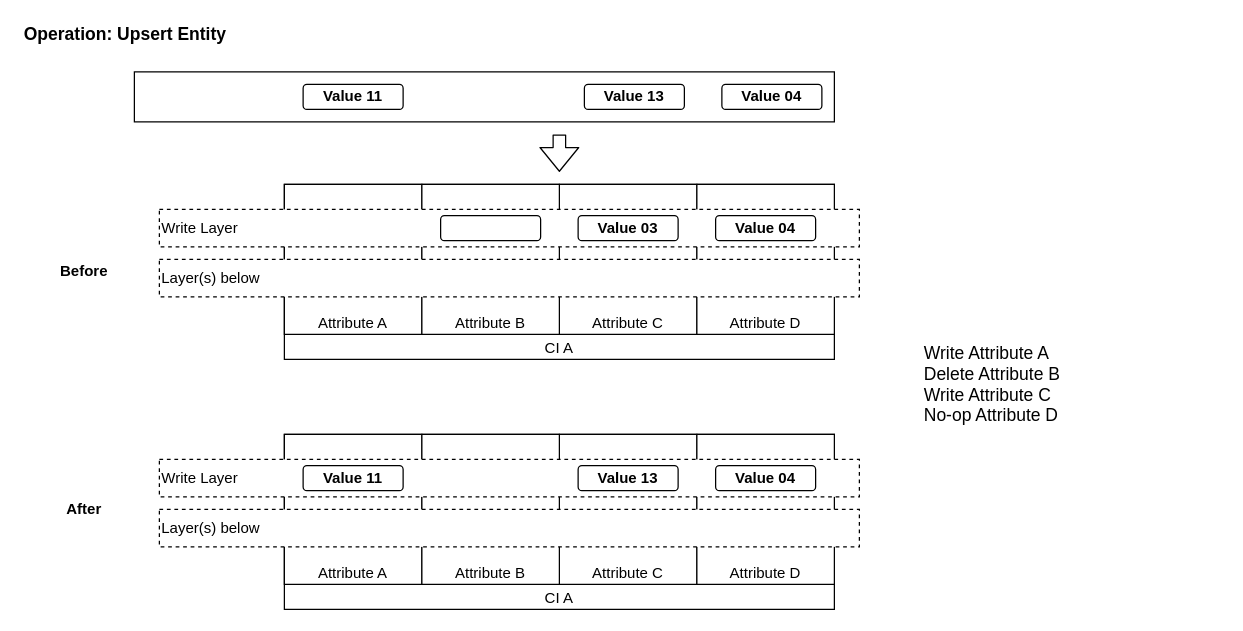
Some shapes in this 1243 by 631 pixel diagram are drawn without their labels. The shapes that lost their labels are listed below. From the top down, each one's box as (x1, y1, x2, y2) in pixels, then its label:
(133, 71, 834, 122): New Entity Attributes
(439, 214, 541, 241): Value 02
